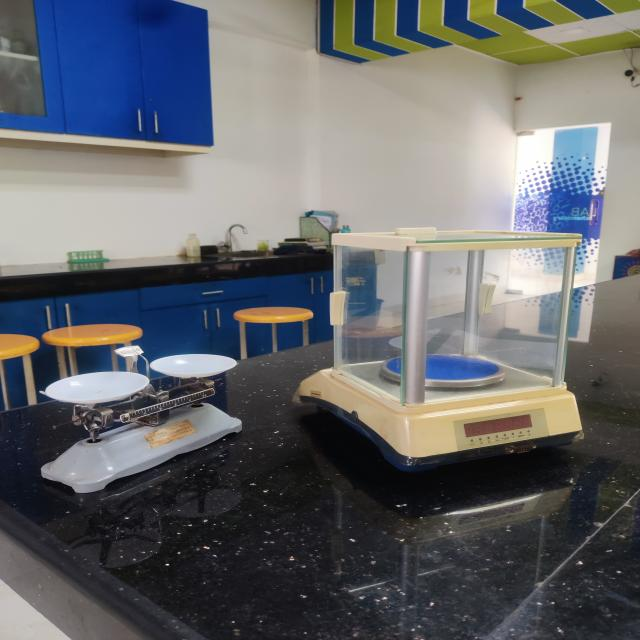Mechanical_Balance_Scale: (15, 333, 253, 533)
Precision_Weight_Scale: (282, 196, 613, 509)
